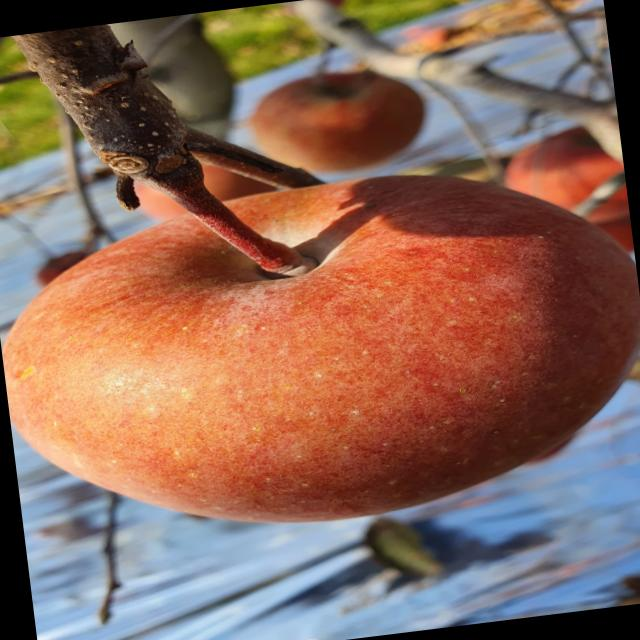fresh: (1, 139, 640, 563)
